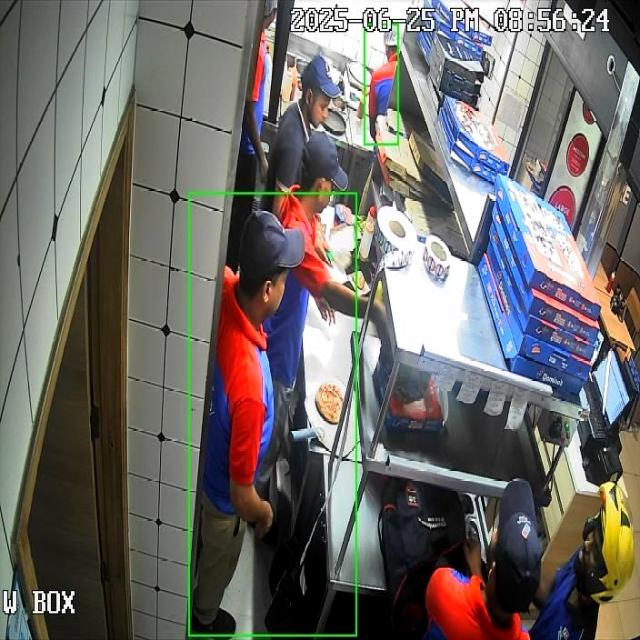helmet: (571, 481, 636, 610)
